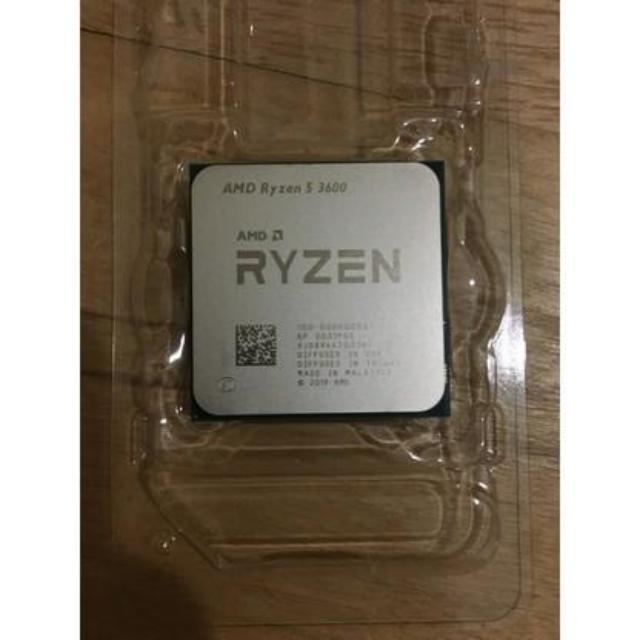CPU: (190, 164, 447, 412)
